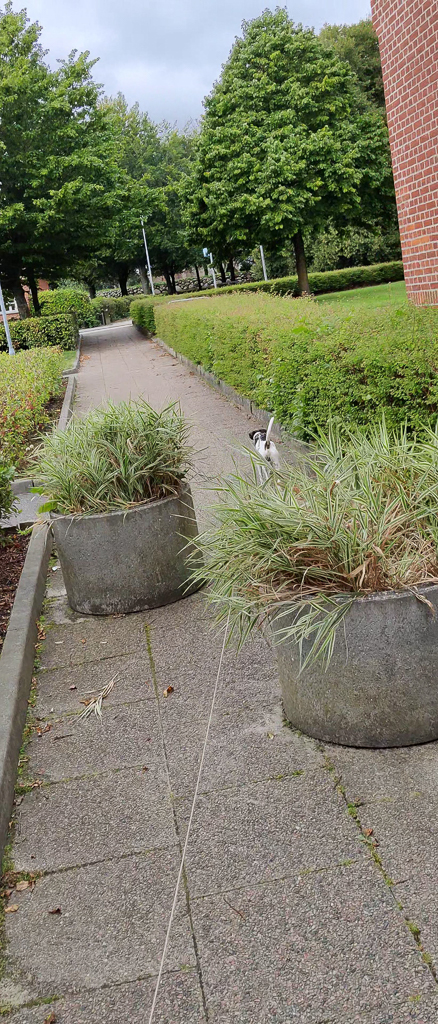Dog: (242, 414, 289, 494)
